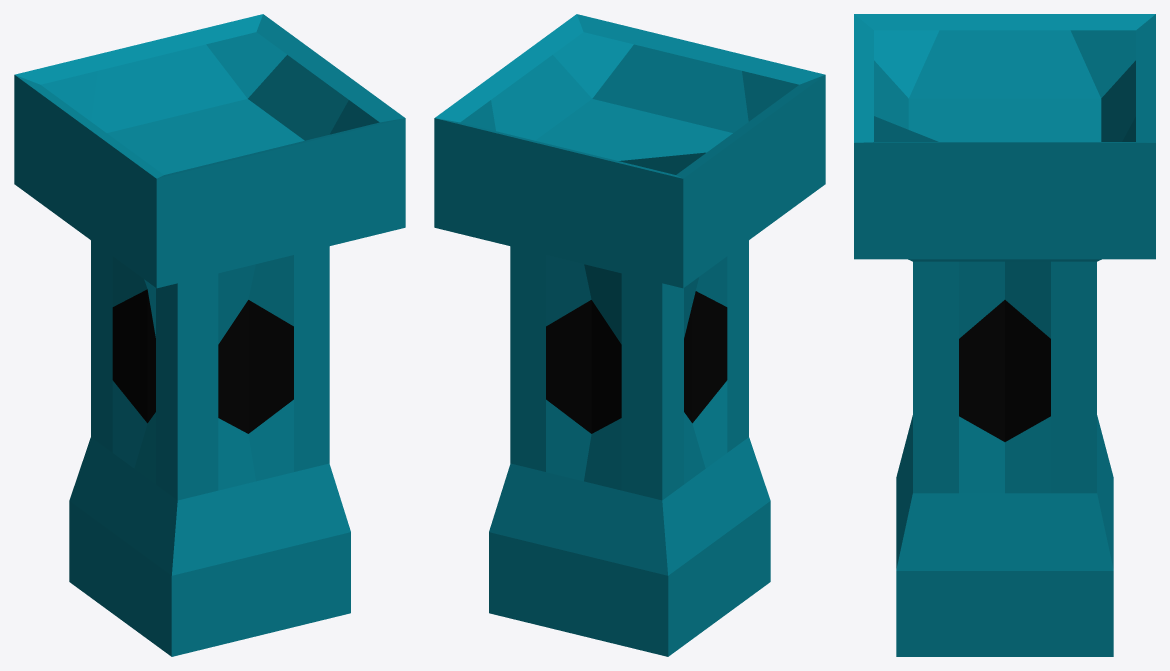
File: wallTower.obj
The picture shows the model from 3 angles, left to right: view 1: azimuth 30°, elevation 25°; view 2: azimuth 150°, elevation 25°; view 3: azimuth 270°, elevation 25°; orthographic projection. The views are drawn at different scales.
Parts seen in each view (by area): view 1: Cube; view 2: Cube; view 3: Cube.
Boxes of the visible parts, x1,y1,x2,y2 form: Cube: [14, 14, 405, 656]; Cube: [434, 14, 825, 656]; Cube: [854, 14, 1155, 656].
Bounding box in the file's own units: 7.3 × 14.05 × 7.23.
